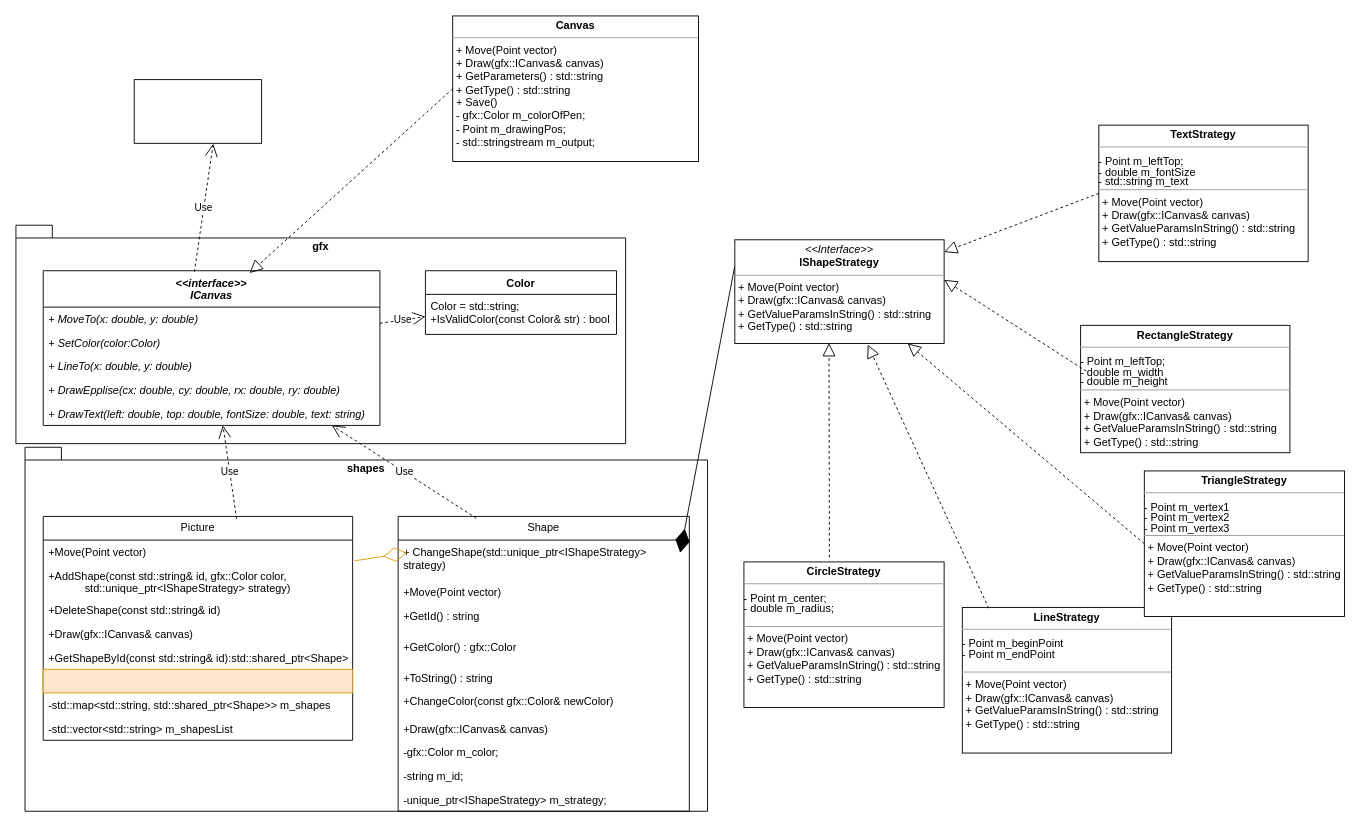
Image size: 1360x830. Some labels were removed from this diagram. The shapes that lost their labels are listed below. From the top down, each one's centre as x and y in pixels, then its label:
At (x=197, y=111): "Point - int x - int y".
At (x=197, y=680): "+ShapesList():std::vector<std::string>".
